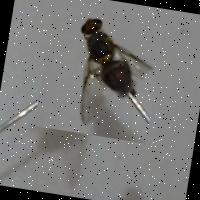Oriental-fruit-fly: (34, 5, 165, 144)
